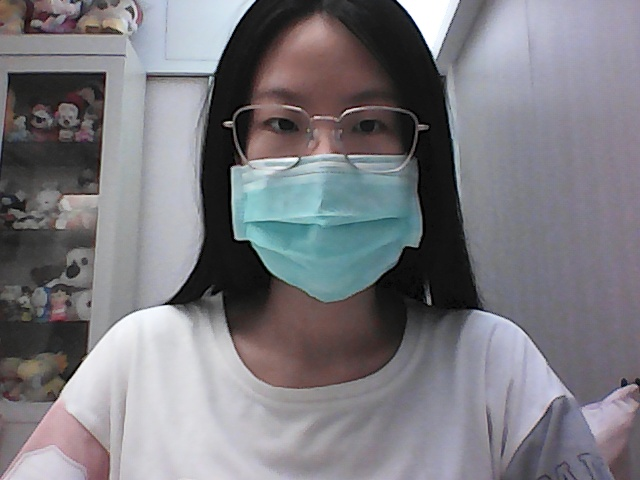Mask: (209, 137, 436, 301)
